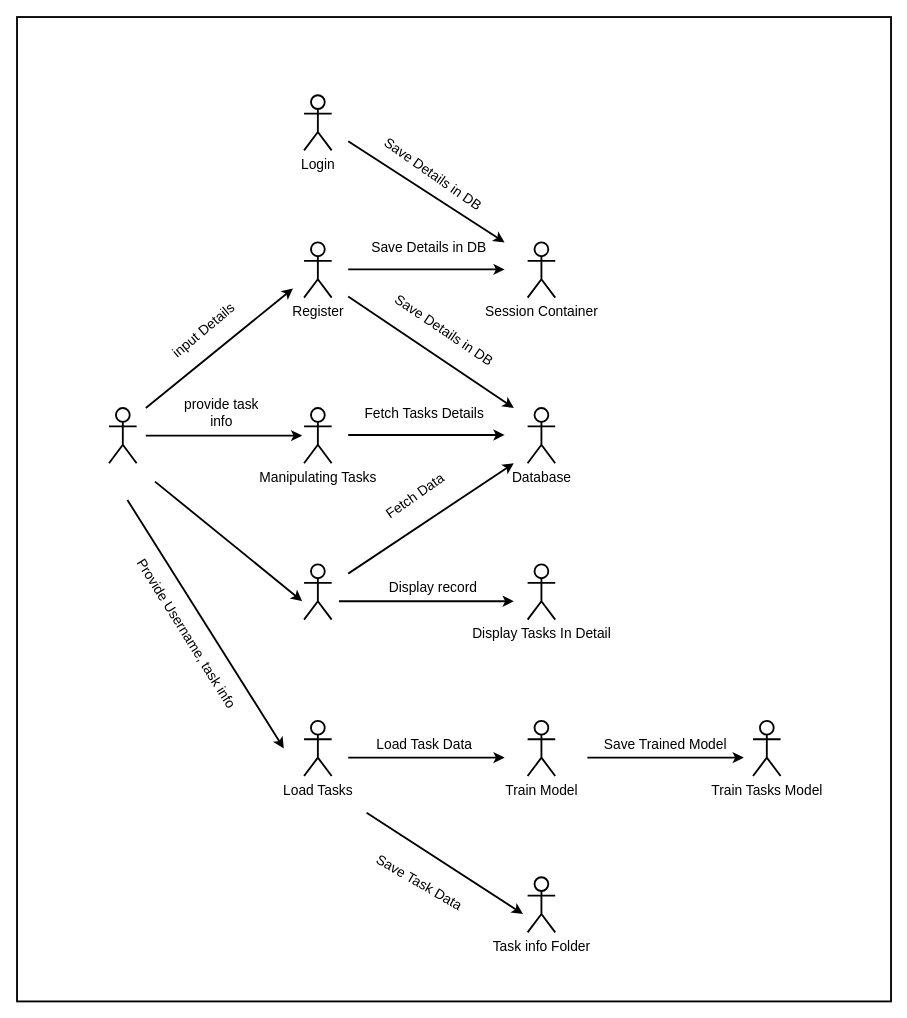
This 907x1018 diagram has some shape labels left out. The centre of each missing label's shape, as x and y in pixels:
User: the point at 122,435
View Tasks: the point at 317,591
